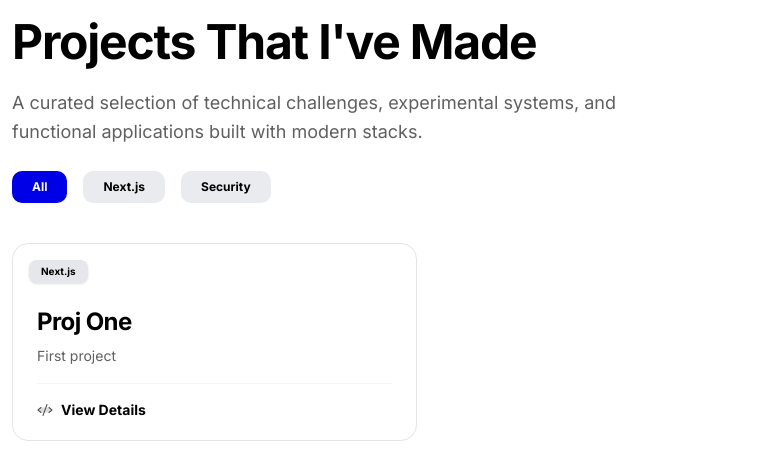
Test: ProjectList wrapper wiring › renders the exact legacy empty message with pinned classes when no project matches
This screenshot has width=781, height=458.
Click the text "Security".
click(226, 186)  # box [181,170,271,202]
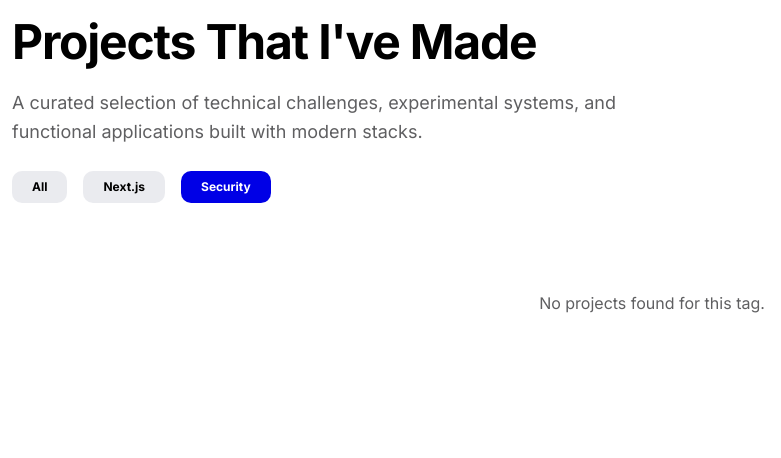
Expected: the text "No projects found for this tag." is shown, [539,292,765,312]
